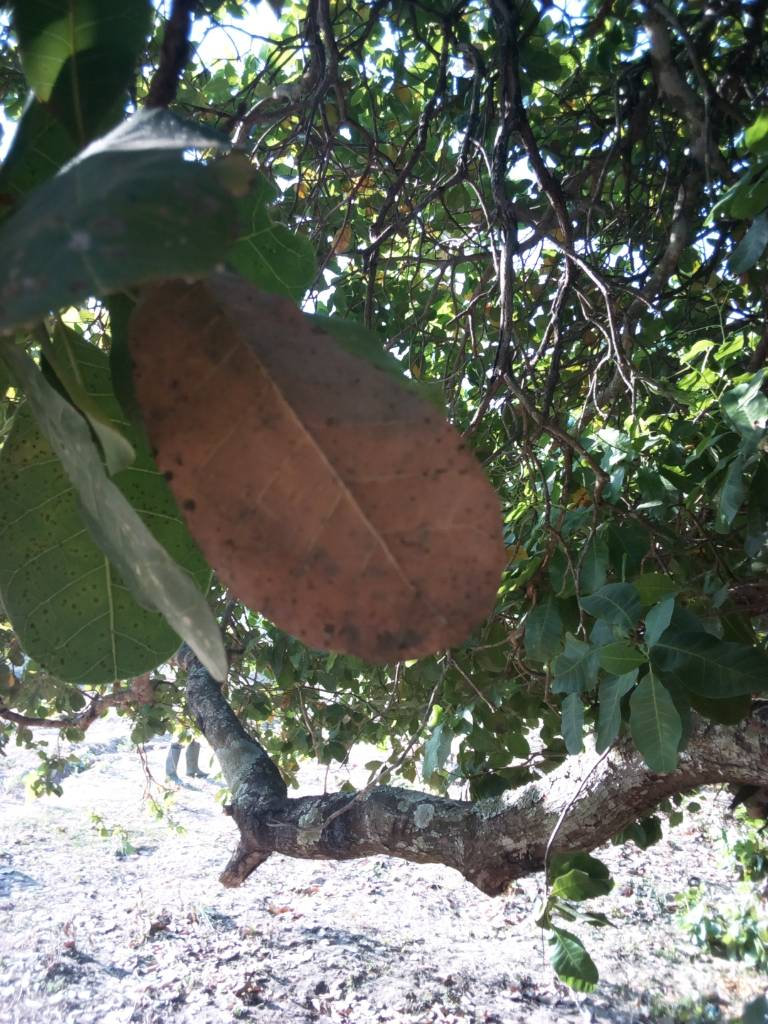Anthracnose: (129, 291, 499, 660), (1, 333, 205, 688), (1, 152, 240, 314)
